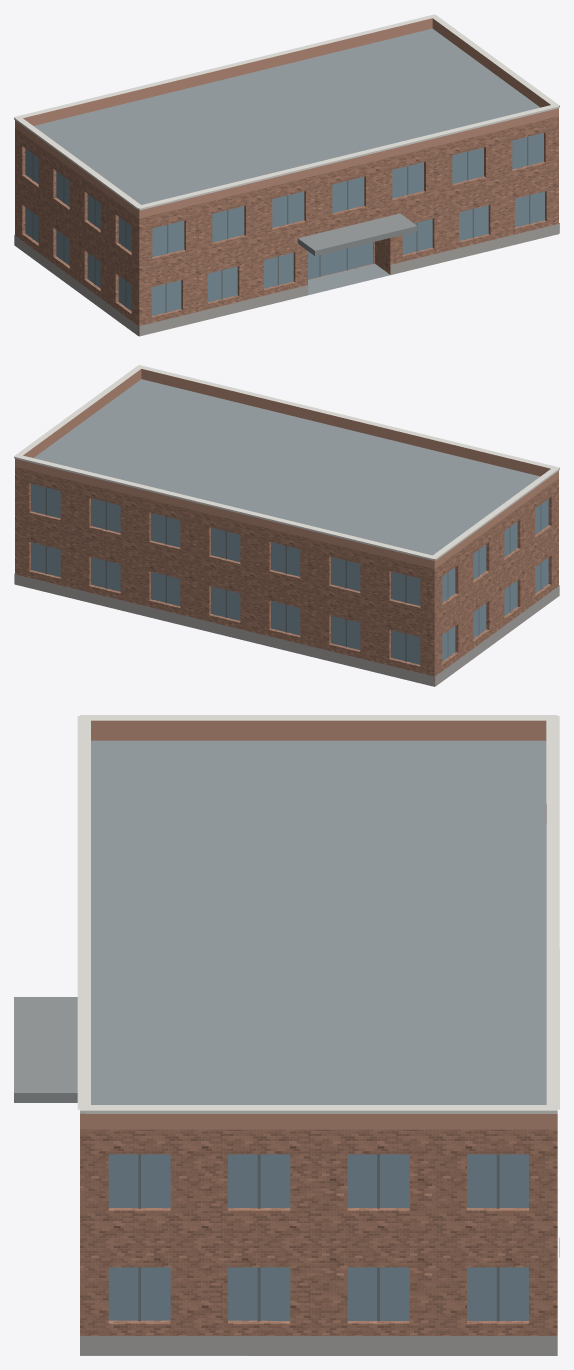
3 views of the same model, one above another, from view 1: azimuth 30°, elevation 25°; view 2: azimuth 150°, elevation 25°; view 3: azimuth 270°, elevation 25° (orthographic). The views are drawn at different scales.
Visible parts, largest first — view 1: daycare__roof, daycare__wall, daycare__glass, daycare__parapet, daycare__trim, daycare__base, daycare__canopy, daycare__frame; view 2: daycare__wall, daycare__roof, daycare__glass, daycare__parapet, daycare__base, daycare__trim, daycare__frame; view 3: daycare__roof, daycare__wall, daycare__glass, daycare__trim, daycare__parapet, daycare__base, daycare__canopy, daycare__frame.
Part boxes in pixels (left/top/right/bottom): daycare__roof: left=34, top=28, right=539, bottom=336; daycare__wall: left=15, top=116, right=558, bottom=335; daycare__glass: left=25, top=133, right=544, bottom=315; daycare__parapet: left=15, top=18, right=558, bottom=218; daycare__trim: left=14, top=14, right=559, bottom=210; daycare__base: left=14, top=223, right=559, bottom=336; daycare__canopy: left=298, top=213, right=417, bottom=256; daycare__frame: left=32, top=137, right=530, bottom=312; daycare__wall: left=15, top=467, right=558, bottom=686; daycare__roof: left=33, top=379, right=539, bottom=686; daycare__glass: left=31, top=483, right=548, bottom=664; daycare__parapet: left=15, top=369, right=558, bottom=568; daycare__base: left=14, top=573, right=559, bottom=686; daycare__trim: left=14, top=365, right=559, bottom=560; daycare__frame: left=45, top=487, right=541, bottom=661; daycare__roof: left=80, top=740, right=546, bottom=1355; daycare__wall: left=80, top=1129, right=557, bottom=1335; daycare__glass: left=108, top=1154, right=528, bottom=1320; daycare__trim: left=77, top=715, right=559, bottom=1113; daycare__parapet: left=80, top=720, right=557, bottom=1129; daycare__base: left=80, top=1238, right=559, bottom=1355; daycare__canopy: left=14, top=997, right=77, bottom=1102; daycare__frame: left=138, top=1154, right=499, bottom=1321.
Bounding box in the file's own units: 25.55 × 7.42 × 14.91.
9 materials, 1 textured.
